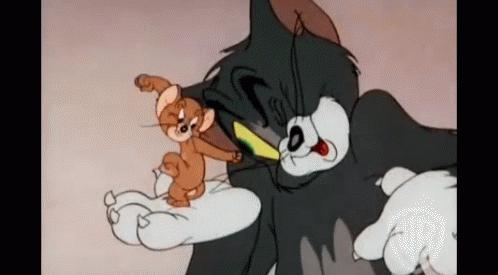jerry: (134, 74, 243, 207)
